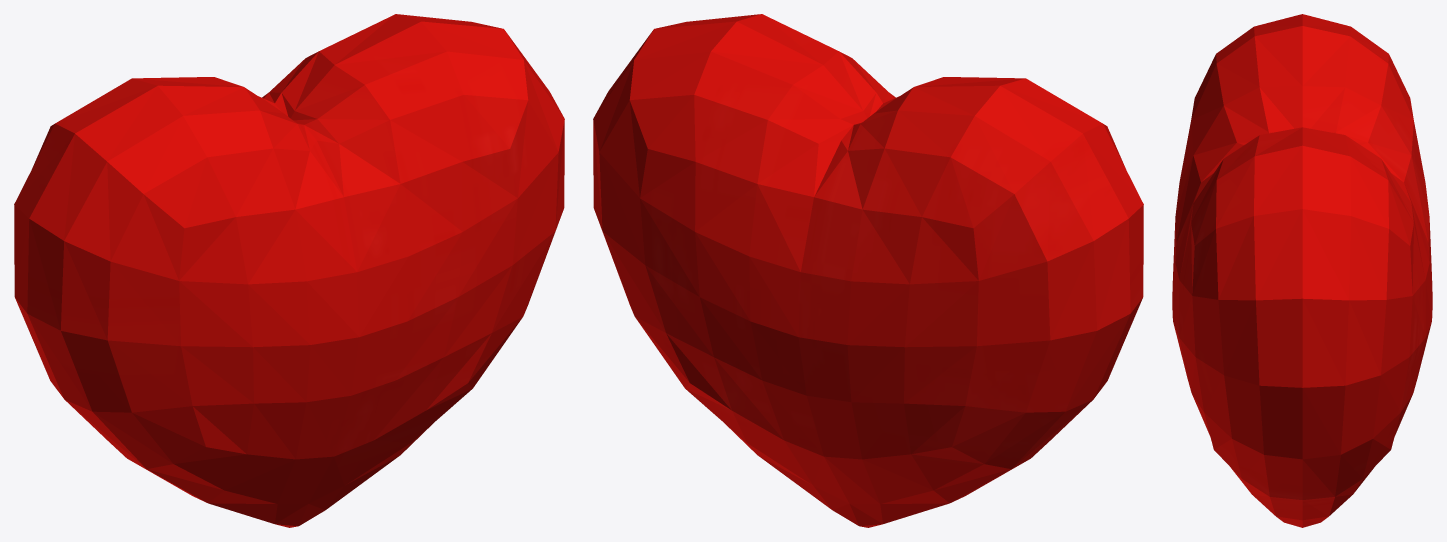
The model's file is love_heart.obj.
3 renders of one model, left to right at view 1: azimuth 30°, elevation 25°; view 2: azimuth 150°, elevation 25°; view 3: azimuth 270°, elevation 25°, orthographic. The views are drawn at different scales.
Visible parts, largest first — view 1: Vert; view 2: Vert; view 3: Vert.
Boxes of the visible parts, x1=… form: Vert: x1=14, y1=14, x2=564, y2=527; Vert: x1=593, y1=14, x2=1143, y2=527; Vert: x1=1172, y1=14, x2=1432, y2=527.
Bounding box in the file's own units: 2.83 × 2.45 × 1.31.
Materials: 1 (1 with a texture image).
